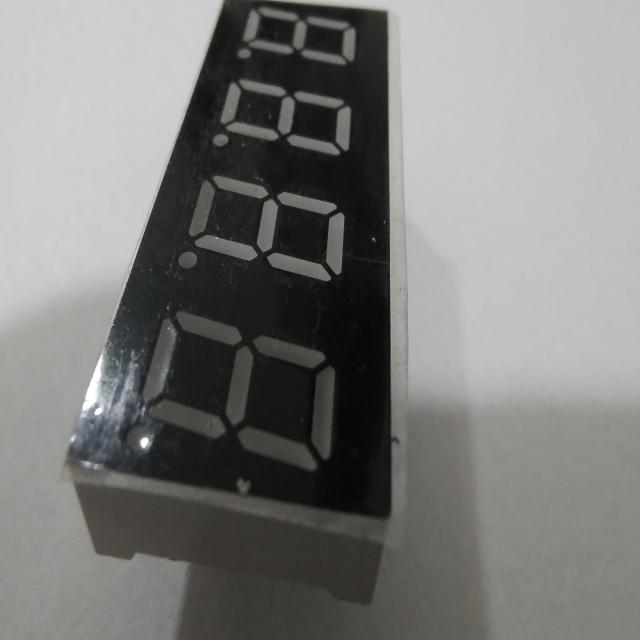7_segments_4_digits: (66, 0, 416, 622)
